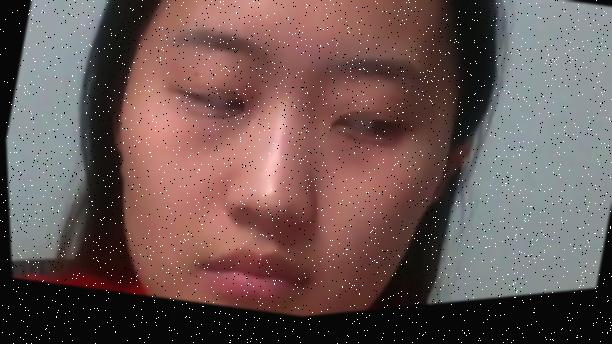eye: (367, 116, 405, 153), (219, 94, 250, 125)
iris: (333, 111, 406, 151), (180, 89, 244, 122)
